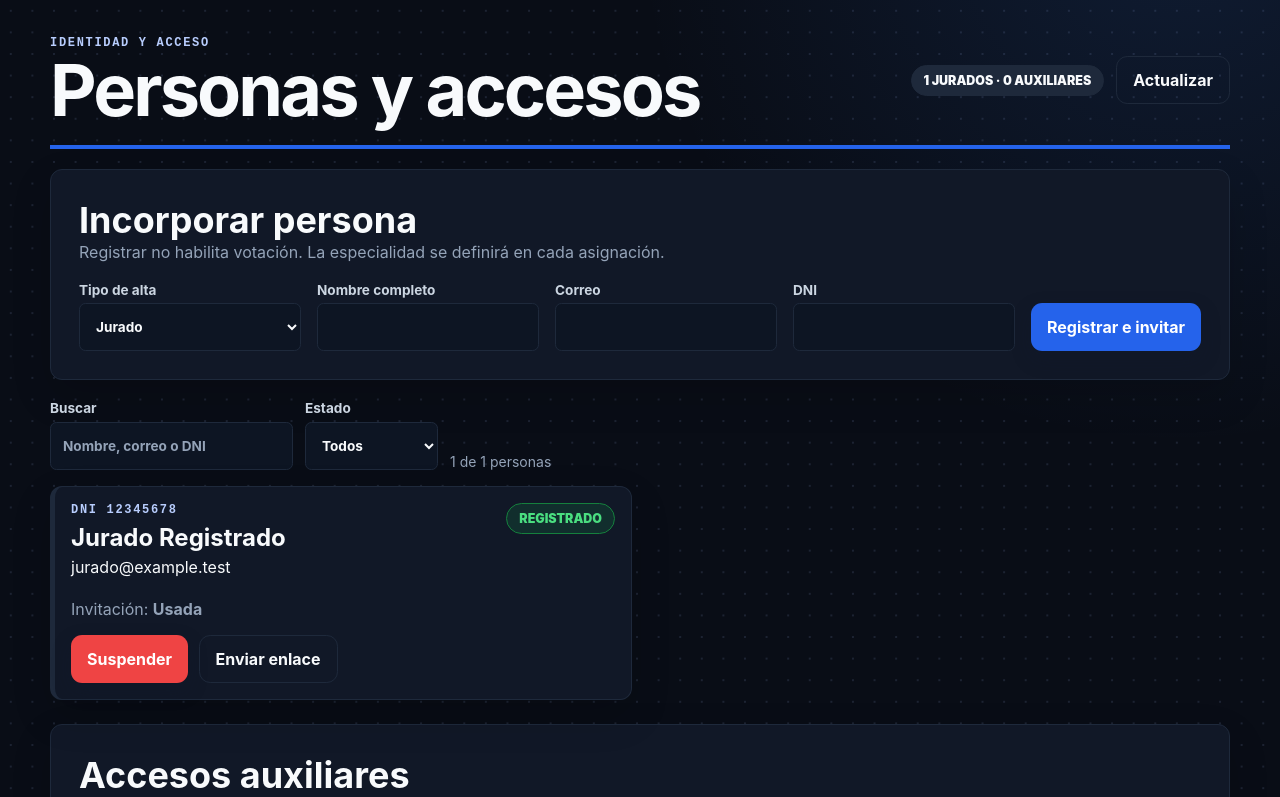
Test: AdminJudgesPage › filtra el padrón por búsqueda y estado
The image size is (1280, 797).
Expected: the heading "Jurado Registrado" is shown, [71, 523, 286, 552]
Type "nadie" into the search field named "Buscar persona por nombre, correo o DNI" at (172, 446), box [50, 422, 293, 470]
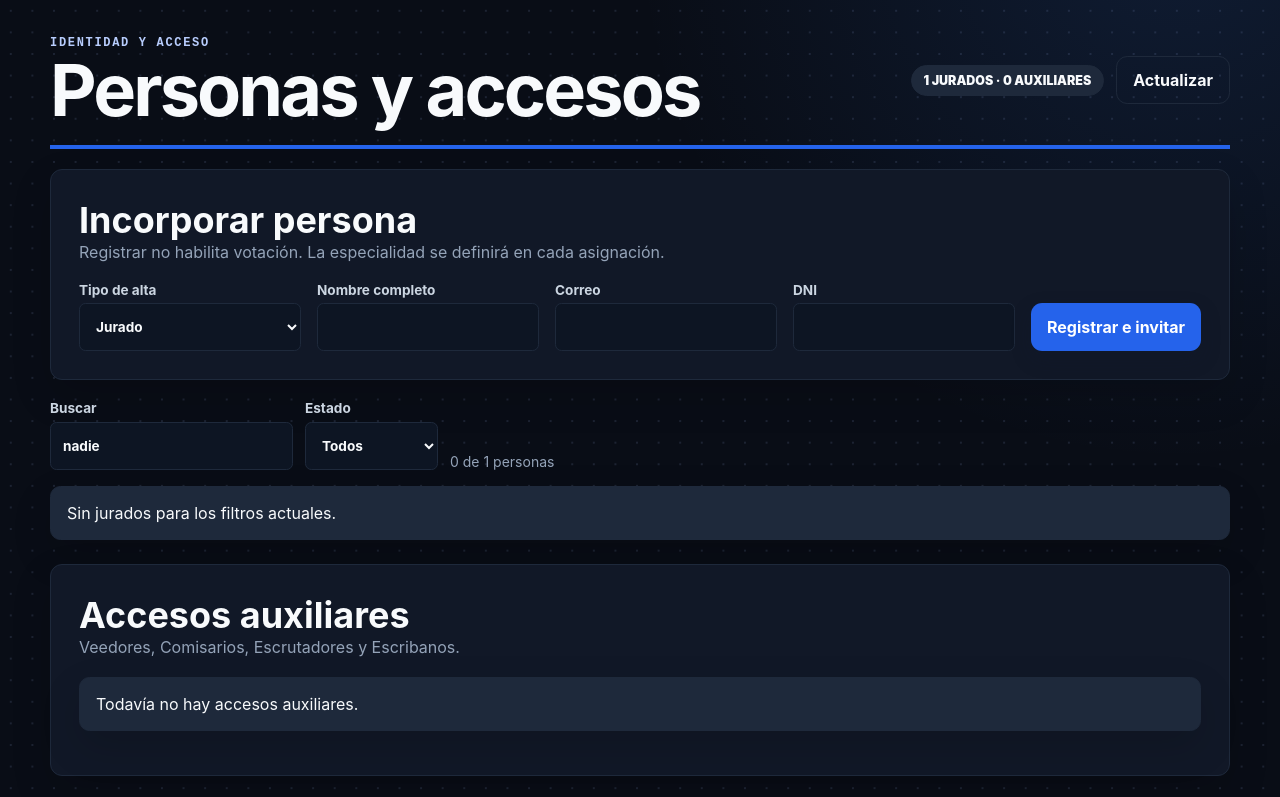
Now the heading "Jurado Registrado" is gone
Now the text "Sin jurados para los filtros actuales." is shown, box [50, 486, 1230, 540]
Clear the search field named "Buscar persona por nombre, correo o DNI" at (172, 446), box [50, 422, 293, 470]
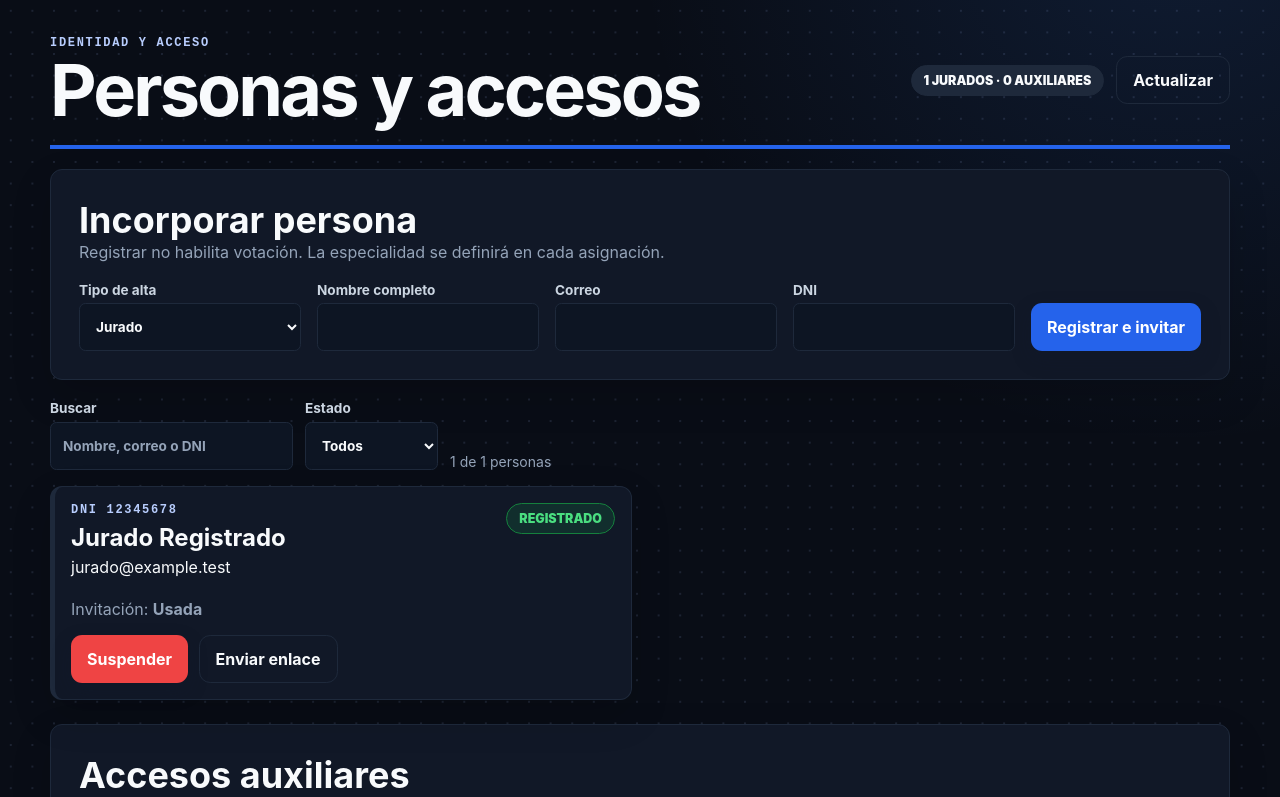
Select "Suspendidos" in the dropdown named "Filtrar personas por estado" at (372, 446), box [305, 422, 438, 470]
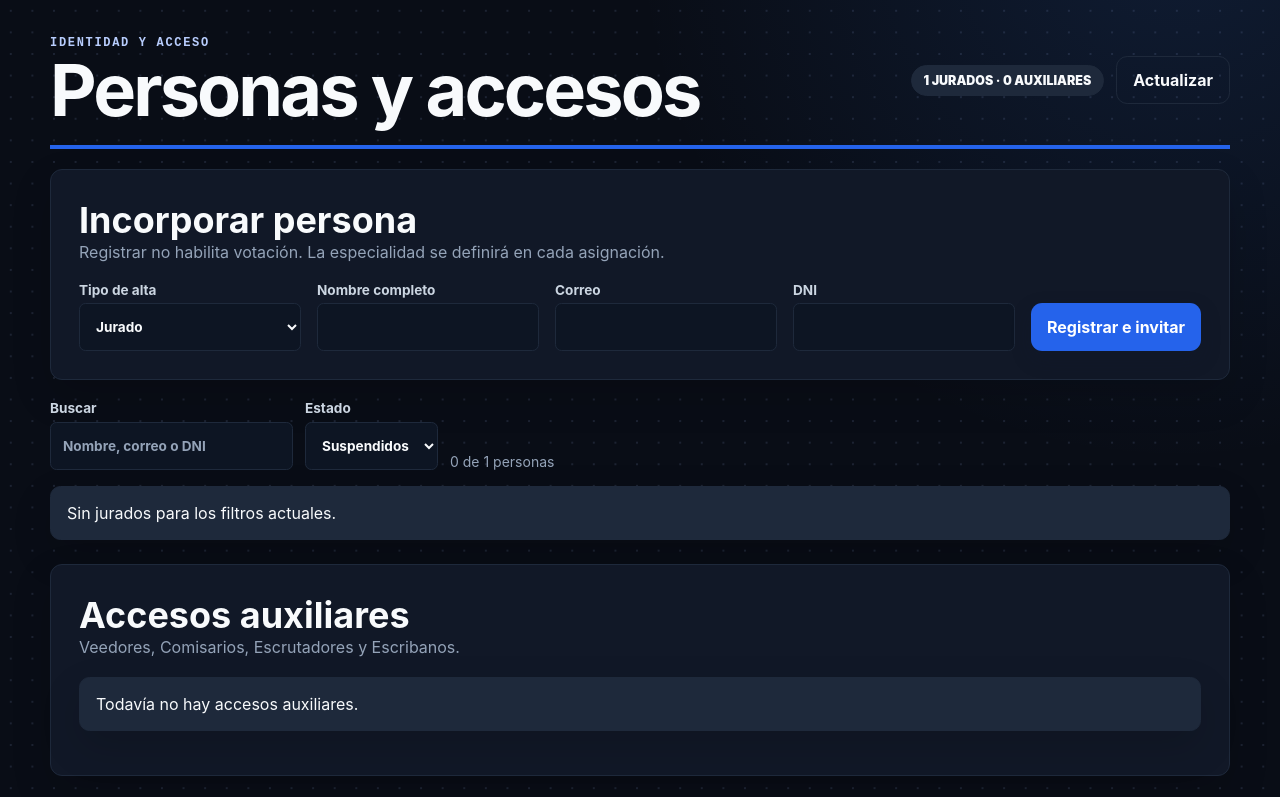
Now the heading "Jurado Registrado" is gone
Now the text "Sin jurados para los filtros actuales." is shown, box [50, 486, 1230, 540]
Select "Registrados" in the dropdown named "Filtrar personas por estado" at (372, 446), box [305, 422, 438, 470]
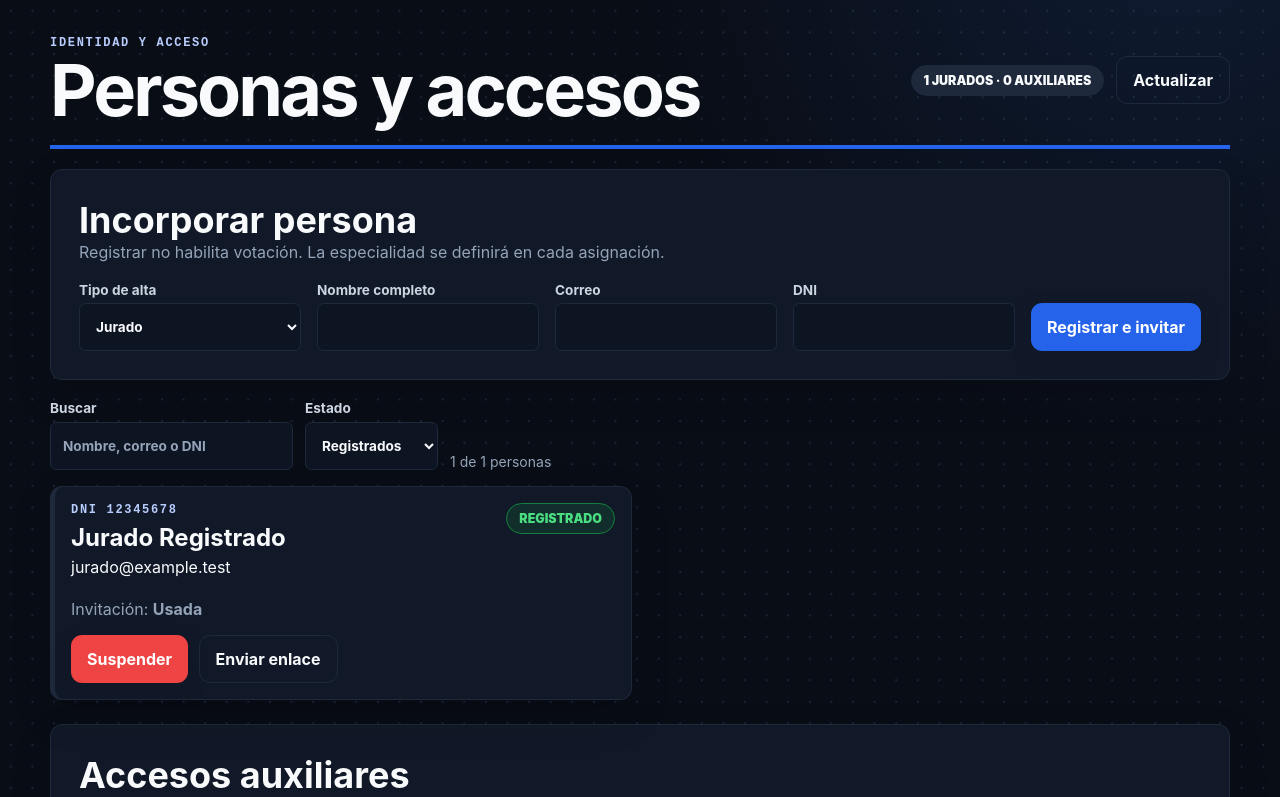
Now the heading "Jurado Registrado" is shown, box [71, 523, 286, 552]
